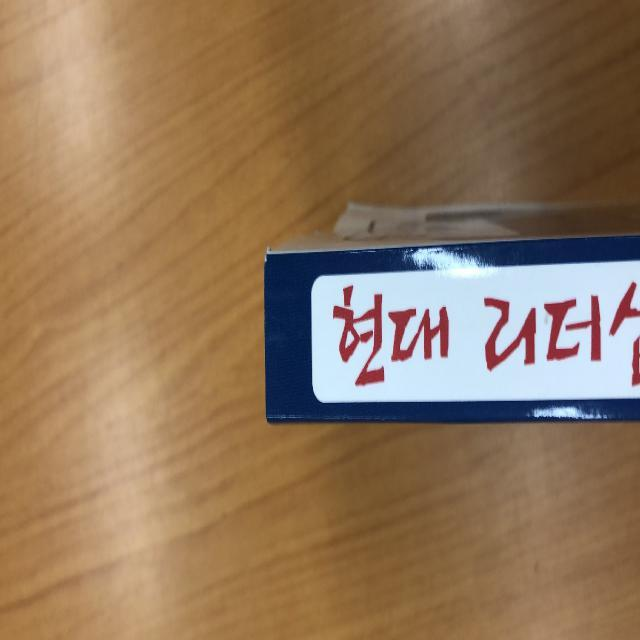Wornout: (258, 239, 284, 271)
